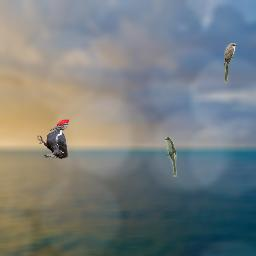Cuckoo: (224, 43, 237, 83), (165, 137, 177, 177)
Woodpecker: (37, 119, 69, 159)
